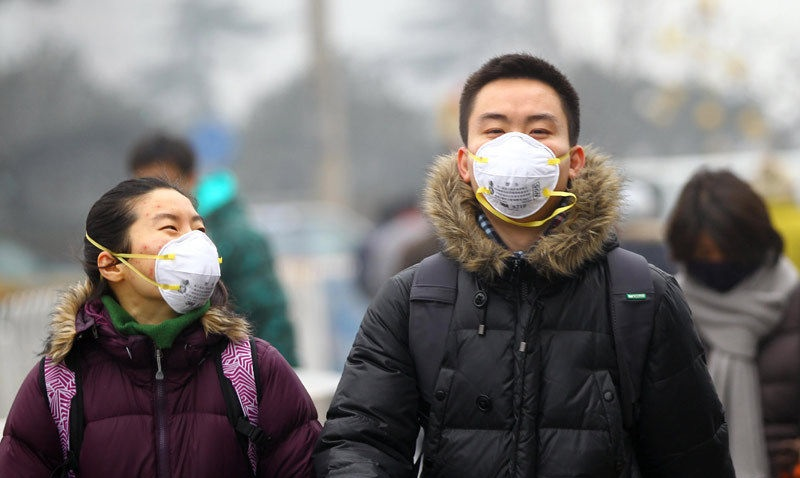face_mask: (468, 83, 571, 209), (130, 189, 216, 301)
